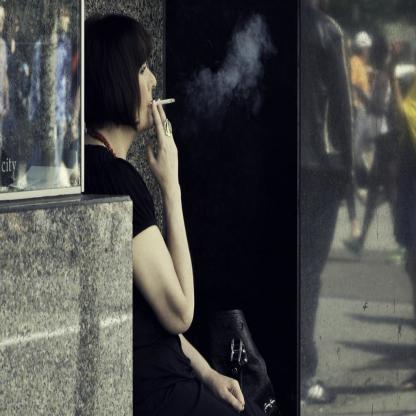smoking: (150, 98, 175, 106)
